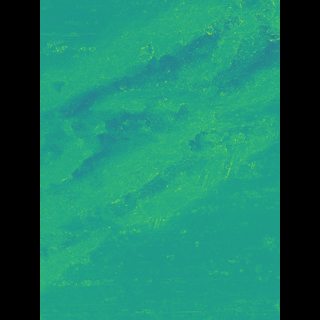Loch: (69, 0, 250, 296)
